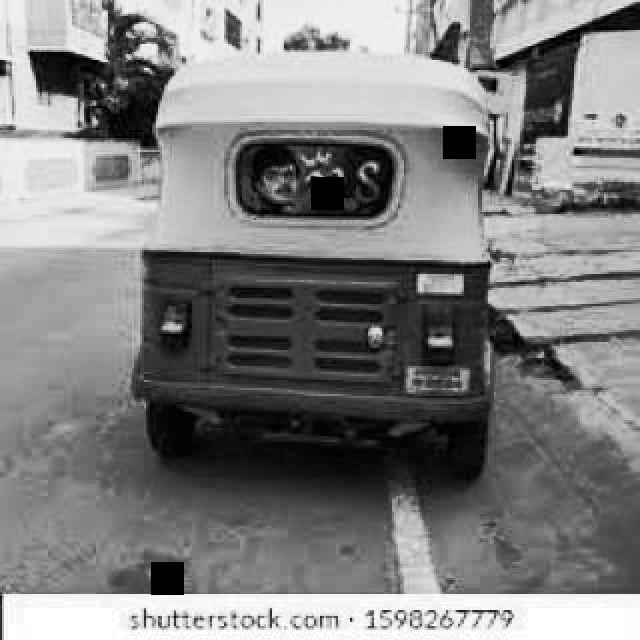Auto-Rickshaw: (148, 40, 498, 488)
